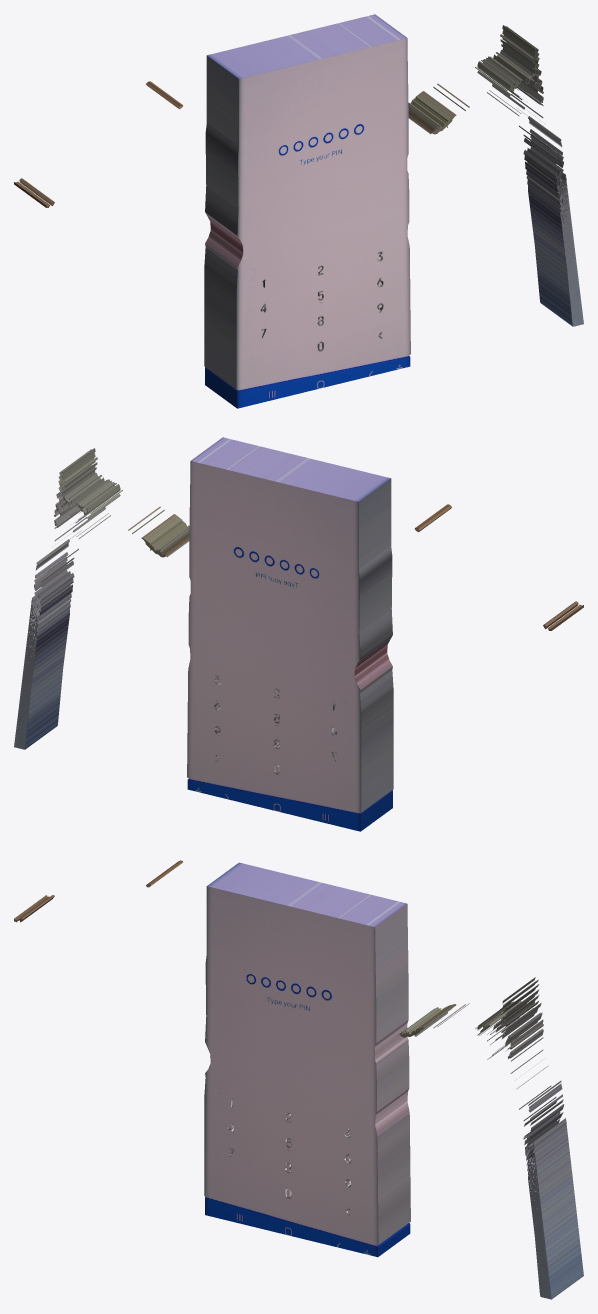
Rendered from Builder20220303192055.obj.
The picture shows the model from 3 angles, top to bottom: view 1: azimuth 30°, elevation 25°; view 2: azimuth 150°, elevation 25°; view 3: azimuth 330°, elevation 25°; orthographic projection.
Parts seen in each view (by area): view 1: Object.1, Object.67, Object.53; view 2: Object.1, Object.67, Object.53; view 3: Object.1, Object.67, Object.53.
Boxes of the visible parts, <box> form: Object.1: <box>204,14,410,408</box>; Object.67: <box>527,175,583,326</box>; Object.53: <box>408,91,456,134</box>; Object.1: <box>187,437,393,831</box>; Object.67: <box>14,598,70,749</box>; Object.53: <box>141,514,189,557</box>; Object.1: <box>204,862,410,1257</box>; Object.67: <box>527,1123,583,1299</box>; Object.53: <box>399,1004,456,1037</box>.
Size of the model in its own units: 235 by 138 by 24.51.
Materials: 1 (1 with a texture image).
